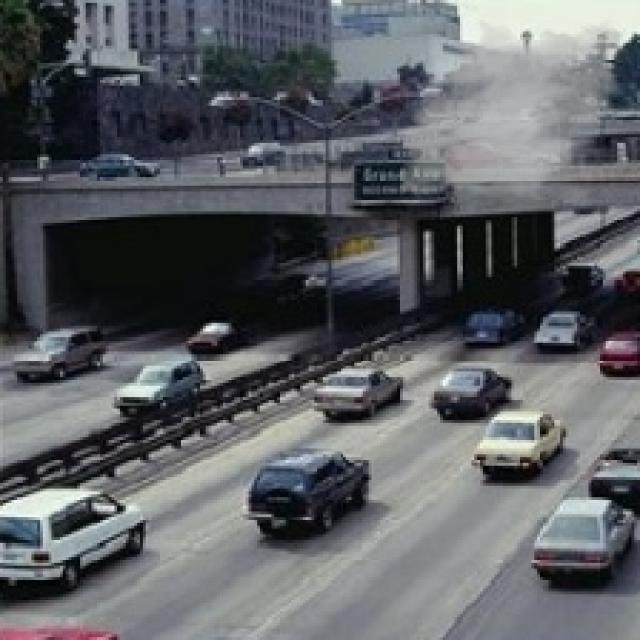smoke: (389, 6, 634, 211)
